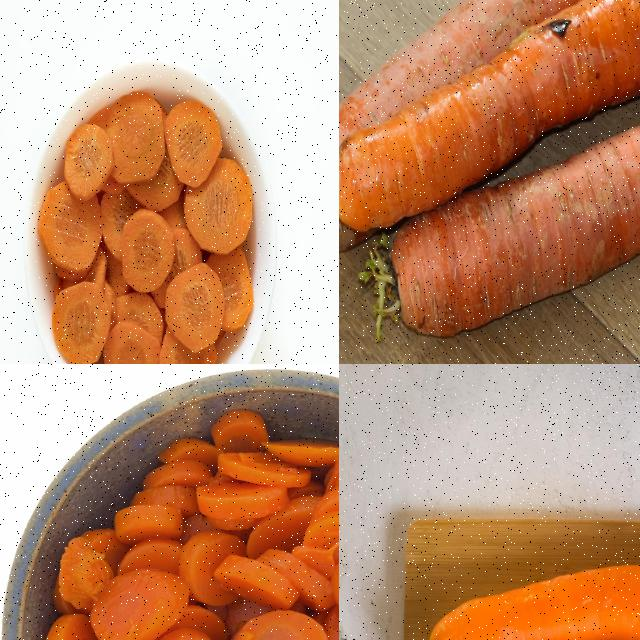carrot: (339, 0, 639, 245), (29, 402, 338, 639), (339, 0, 639, 237), (38, 79, 265, 363), (388, 92, 639, 335), (425, 552, 639, 639)
